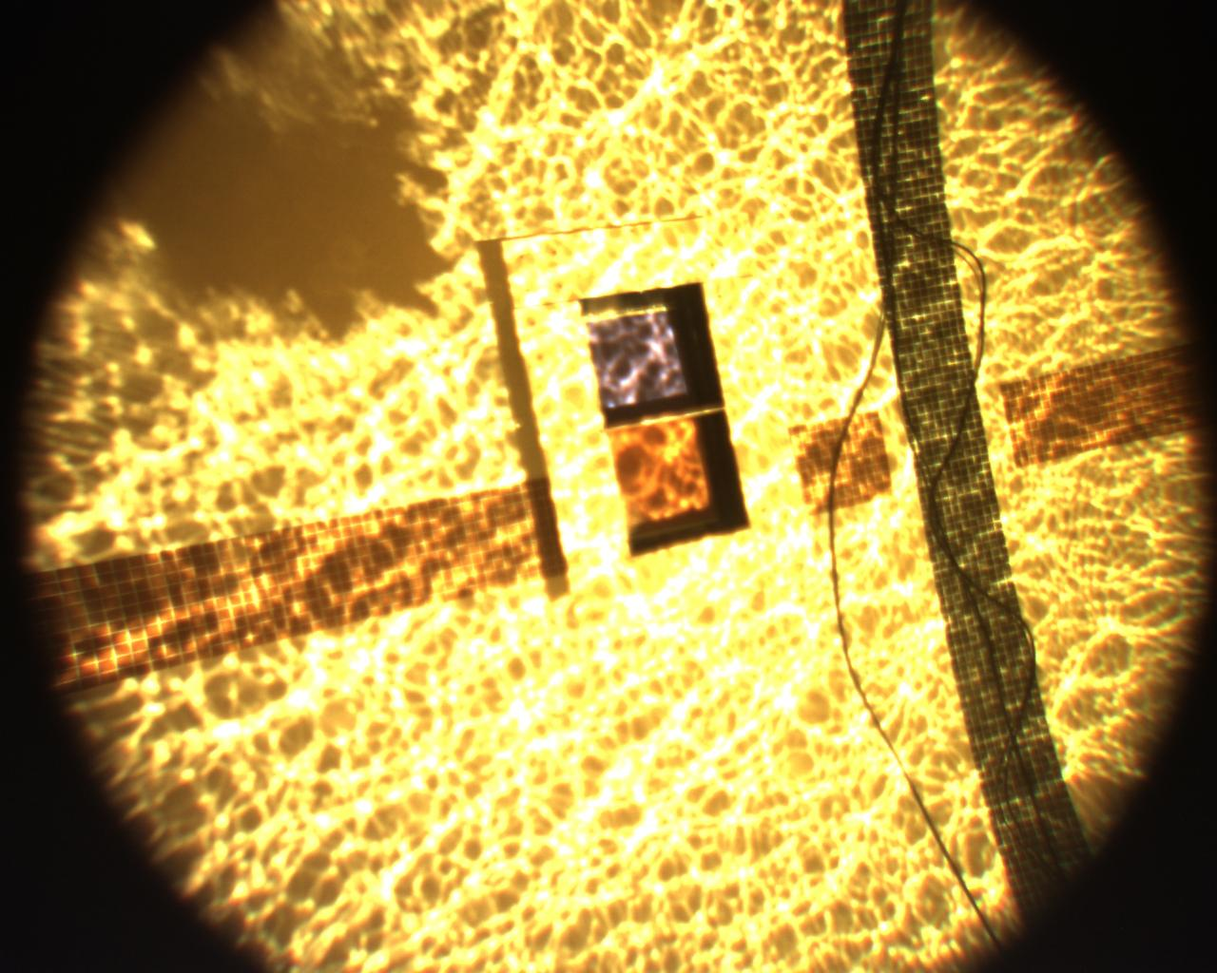dropper-box-top: (476, 215, 811, 597)
